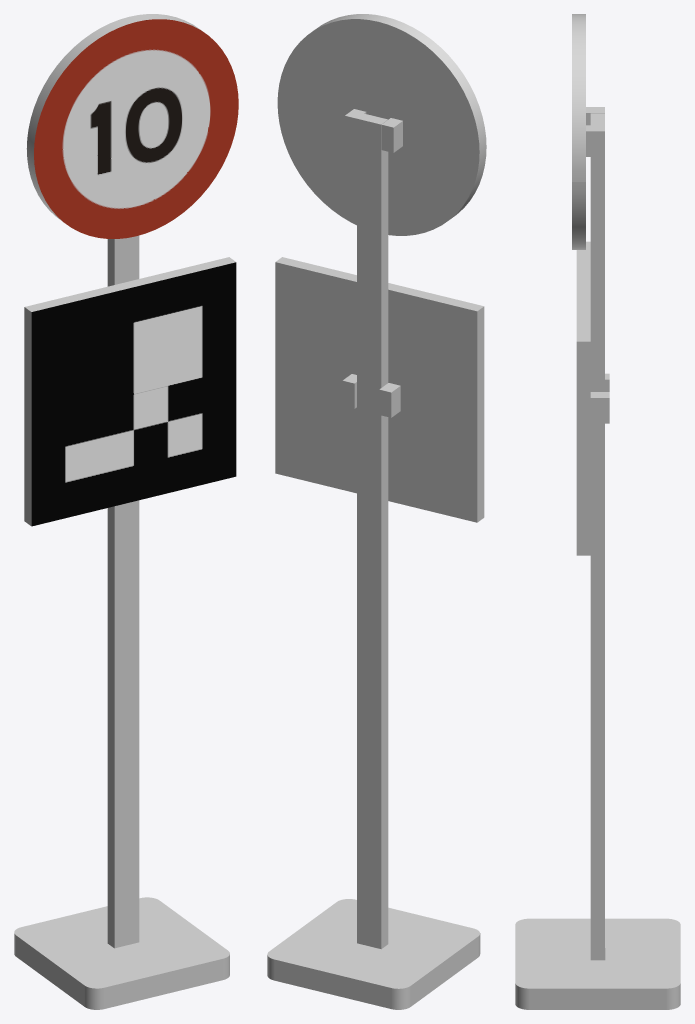
File: velo10_aruco.dae
3 renders of one model, left to right at view 1: azimuth 30°, elevation 25°; view 2: azimuth 150°, elevation 25°; view 3: azimuth 270°, elevation 25°, orthographic.
Visible parts, largest first — view 1: b7e9b393-6d52-45c5-8a7e-083ac257ab19, a58f63af-b197-4a8f-a02b-d79cfb1a0bcb, a8ae6c9c-8ad6-4a6f-a9f6-11d30069096f, a2ece1c4-2a00-4c08-a622-89f057c9ab2f, a2993061-1c9d-459b-97b8-26d873a3d5b4, ab5de673-d754-43b3-a1de-6741e42d3a01, eefa4632-d66f-4b1c-a7b8-46ab98c47b8f; view 2: a4dbc1b7-3170-4f93-95b8-39afd8186bf7, bf20fbf6-d8f3-4005-bc0a-35e828980340, a8ae6c9c-8ad6-4a6f-a9f6-11d30069096f, a2ece1c4-2a00-4c08-a622-89f057c9ab2f, a2993061-1c9d-459b-97b8-26d873a3d5b4, ab5de673-d754-43b3-a1de-6741e42d3a01, eefa4632-d66f-4b1c-a7b8-46ab98c47b8f, a1636783-369d-4a3b-b48f-2f3c90e77f18, fd974520-35fa-4718-addb-7c93631eca35; view 3: a2ece1c4-2a00-4c08-a622-89f057c9ab2f, a8ae6c9c-8ad6-4a6f-a9f6-11d30069096f, a2993061-1c9d-459b-97b8-26d873a3d5b4, ae9cecbb-ba40-4f0e-99e4-626346bbfd30, eefa4632-d66f-4b1c-a7b8-46ab98c47b8f, ac438924-855b-411c-a751-bd5636c07304, a9f9f074-0205-48ba-ab30-264fbef02a05.
Part boxes in pixels (bbox=[...]): b7e9b393-6d52-45c5-8a7e-083ac257ab19: bbox=[31, 262, 236, 526]; a58f63af-b197-4a8f-a02b-d79cfb1a0bcb: bbox=[34, 19, 238, 238]; a8ae6c9c-8ad6-4a6f-a9f6-11d30069096f: bbox=[107, 235, 139, 948]; a2ece1c4-2a00-4c08-a622-89f057c9ab2f: bbox=[14, 897, 229, 1009]; a2993061-1c9d-459b-97b8-26d873a3d5b4: bbox=[26, 14, 202, 221]; ab5de673-d754-43b3-a1de-6741e42d3a01: bbox=[24, 307, 31, 526]; eefa4632-d66f-4b1c-a7b8-46ab98c47b8f: bbox=[25, 257, 235, 311]; a4dbc1b7-3170-4f93-95b8-39afd8186bf7: bbox=[275, 262, 477, 522]; bf20fbf6-d8f3-4005-bc0a-35e828980340: bbox=[277, 19, 479, 235]; a8ae6c9c-8ad6-4a6f-a9f6-11d30069096f: bbox=[357, 113, 388, 949]; a2ece1c4-2a00-4c08-a622-89f057c9ab2f: bbox=[267, 899, 480, 1009]; a2993061-1c9d-459b-97b8-26d873a3d5b4: bbox=[312, 14, 486, 218]; ab5de673-d754-43b3-a1de-6741e42d3a01: bbox=[477, 306, 484, 522]; eefa4632-d66f-4b1c-a7b8-46ab98c47b8f: bbox=[275, 257, 483, 311]; a1636783-369d-4a3b-b48f-2f3c90e77f18: bbox=[379, 383, 400, 417]; fd974520-35fa-4718-addb-7c93631eca35: bbox=[381, 118, 402, 152]; a2ece1c4-2a00-4c08-a622-89f057c9ab2f: bbox=[515, 918, 680, 1009]; a8ae6c9c-8ad6-4a6f-a9f6-11d30069096f: bbox=[590, 113, 604, 960]; a2993061-1c9d-459b-97b8-26d873a3d5b4: bbox=[572, 14, 585, 249]; ae9cecbb-ba40-4f0e-99e4-626346bbfd30: bbox=[576, 341, 590, 555]; eefa4632-d66f-4b1c-a7b8-46ab98c47b8f: bbox=[576, 241, 590, 341]; ac438924-855b-411c-a751-bd5636c07304: bbox=[590, 392, 609, 423]; a9f9f074-0205-48ba-ab30-264fbef02a05: bbox=[586, 125, 604, 156].
Size of the model in its own units: 0.05 by 0.035 by 0.222.
Materials: 2 (2 with a texture image).
